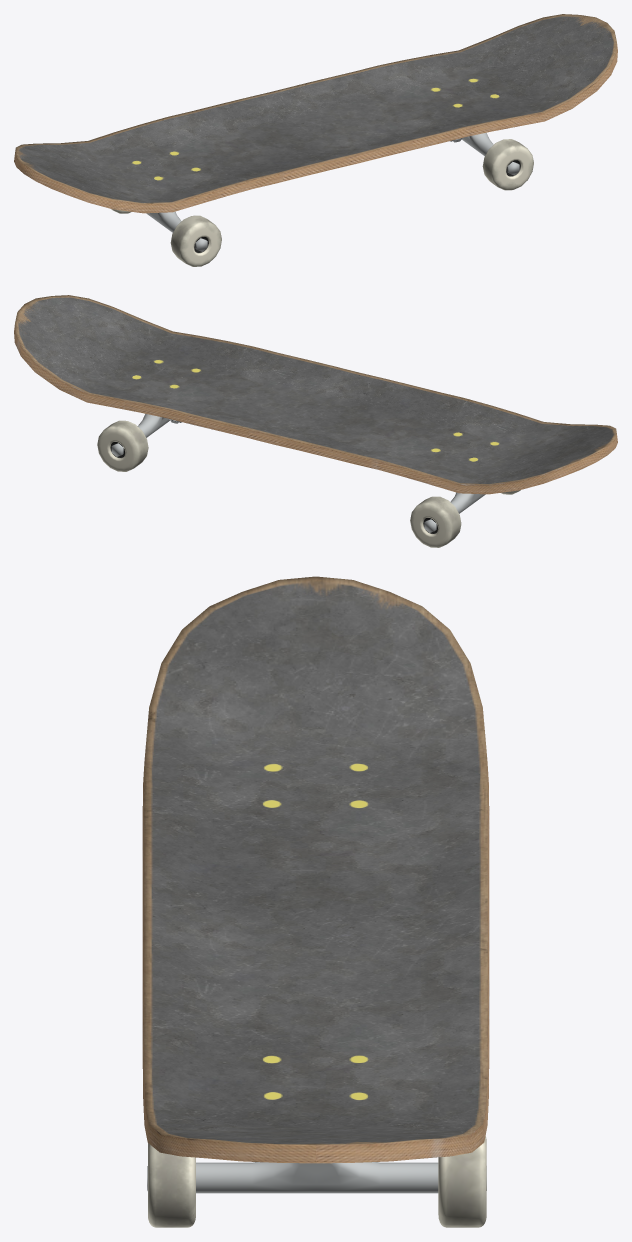
The picture shows the model from 3 angles, top to bottom: view 1: azimuth 30°, elevation 25°; view 2: azimuth 150°, elevation 25°; view 3: azimuth 270°, elevation 25°; orthographic projection. The views are drawn at different scales.
Visible parts, largest first — view 1: Skateboard; view 2: Skateboard; view 3: Skateboard.
Boxes of the visible parts, bbox=[...] form: Skateboard: bbox=[14, 14, 617, 266]; Skateboard: bbox=[14, 295, 617, 547]; Skateboard: bbox=[142, 576, 489, 1227].
Bounding box in the file's own units: 0.7582 × 0.1299 × 0.1947.
Materials: 1 (1 with a texture image).
